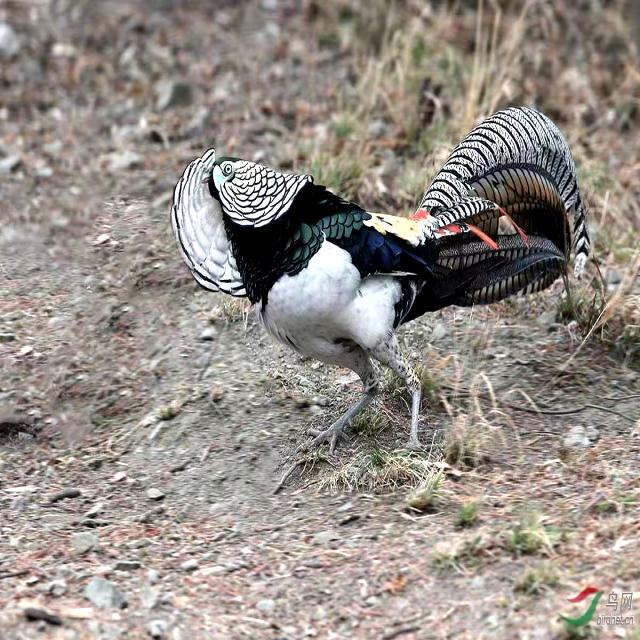Chrysolophus amherstiae: (420, 109, 589, 302)
